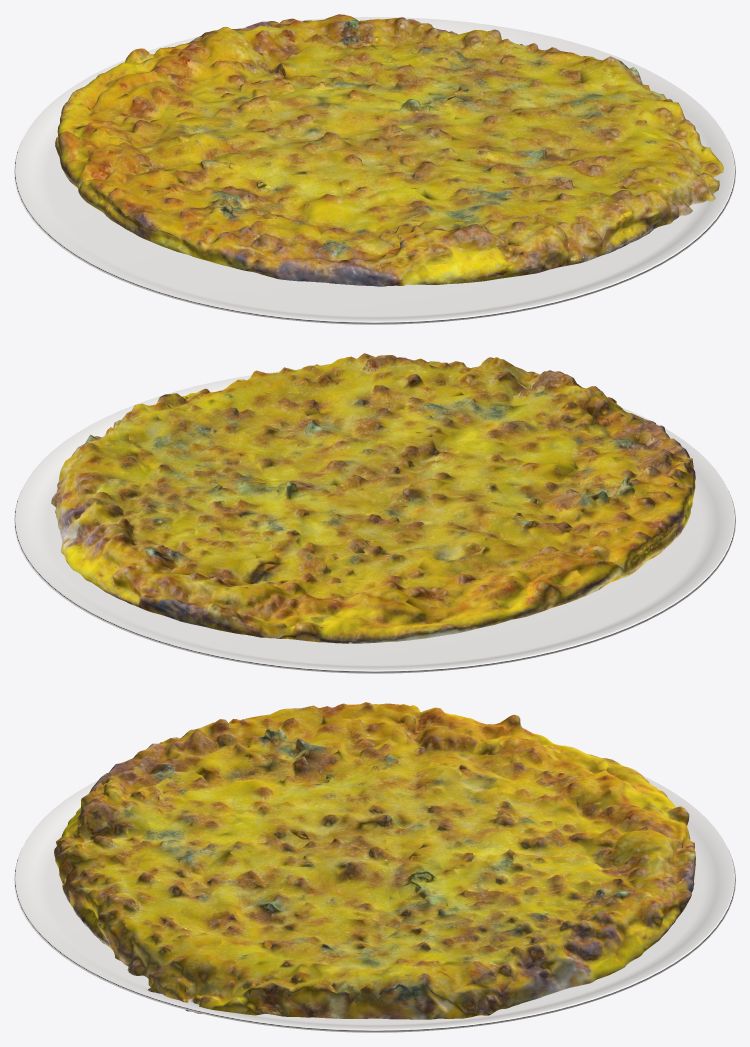
The model's file is pizza-queijos.glb.
The picture shows the model from 3 angles, top to bottom: view 1: azimuth 30°, elevation 25°; view 2: azimuth 150°, elevation 25°; view 3: azimuth 270°, elevation 25°; orthographic projection.
Parts seen in each view (by area): view 1: Object_2, prato; view 2: Object_2, prato; view 3: Object_2, prato.
Part boxes in pixels (x1=…): Object_2: x1=55, y1=14, x2=723, y2=286; prato: x1=14, y1=17, x2=735, y2=324; Object_2: x1=51, y1=353, x2=695, y2=643; prato: x1=14, y1=369, x2=735, y2=673; Object_2: x1=54, y1=702, x2=695, y2=1019; prato: x1=14, y1=776, x2=735, y2=1032.
Bounding box in the file's own units: 0.36 × 0.0463 × 0.36.
Materials: 2 (1 with a texture image).
